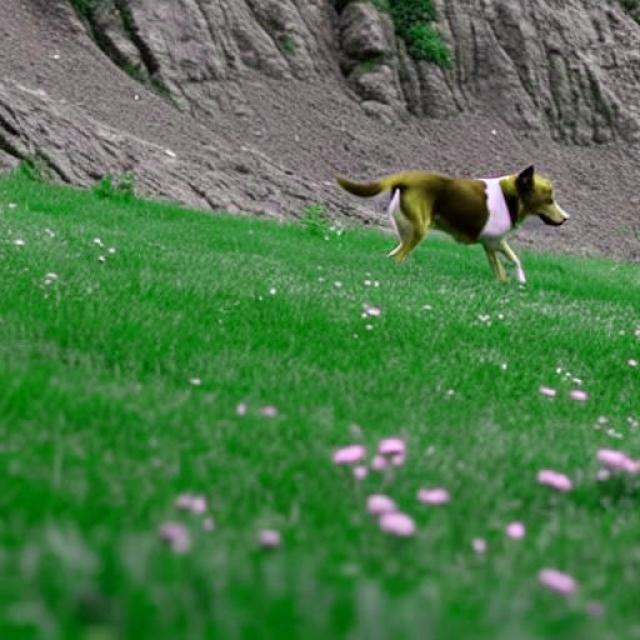Dog: (335, 163, 571, 285)
